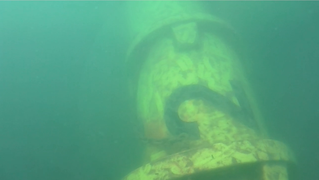2: (164, 79, 262, 141)
pipe: (118, 1, 293, 180)
